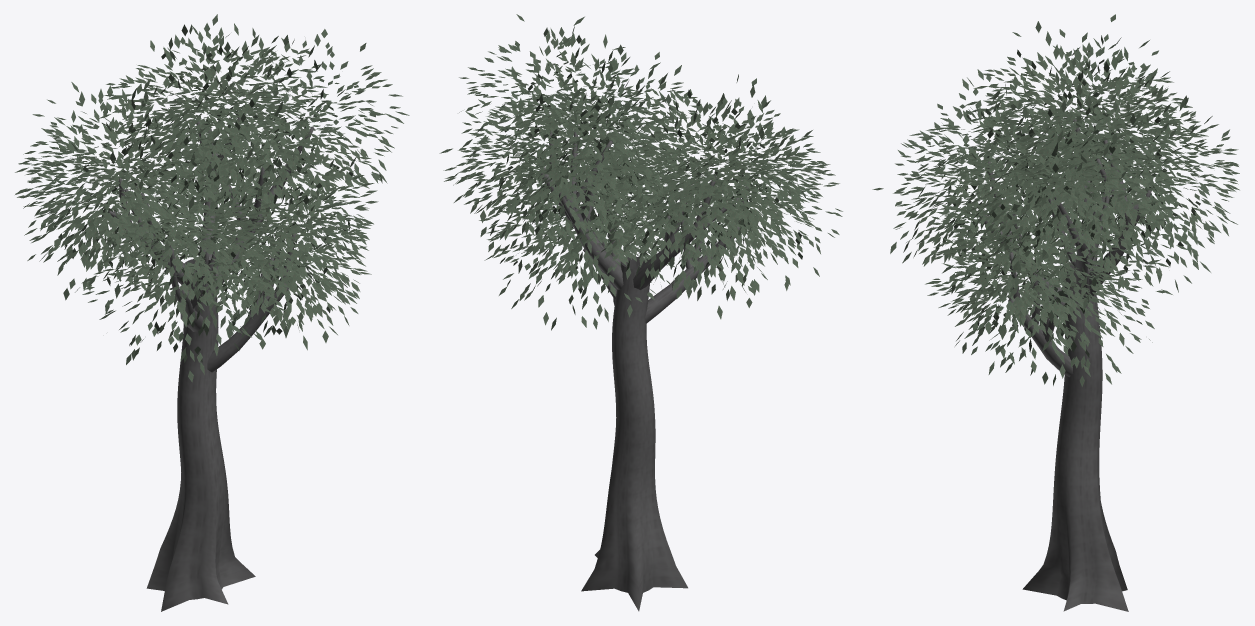
The model's file is SM_Island_Tree_A.fbx.
The picture shows the model from 3 angles, left to right: view 1: azimuth 30°, elevation 25°; view 2: azimuth 150°, elevation 25°; view 3: azimuth 270°, elevation 25°; orthographic projection. The views are drawn at different scales.
Visible parts, largest first — view 1: SM_Island_Tree_A; view 2: SM_Island_Tree_A; view 3: SM_Island_Tree_A.
Part boxes in pixels (left/top/right/bottom): SM_Island_Tree_A: left=15, top=14, right=409, bottom=611; SM_Island_Tree_A: left=439, top=14, right=842, bottom=611; SM_Island_Tree_A: left=872, top=14, right=1239, bottom=611.
Bounding box in the file's own units: 1427 × 2121 × 1240.
2 materials, 2 textured.
